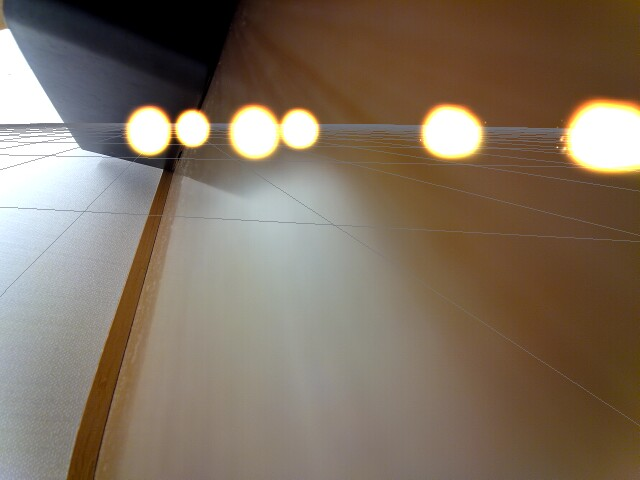firebig: (542, 83, 640, 200)
